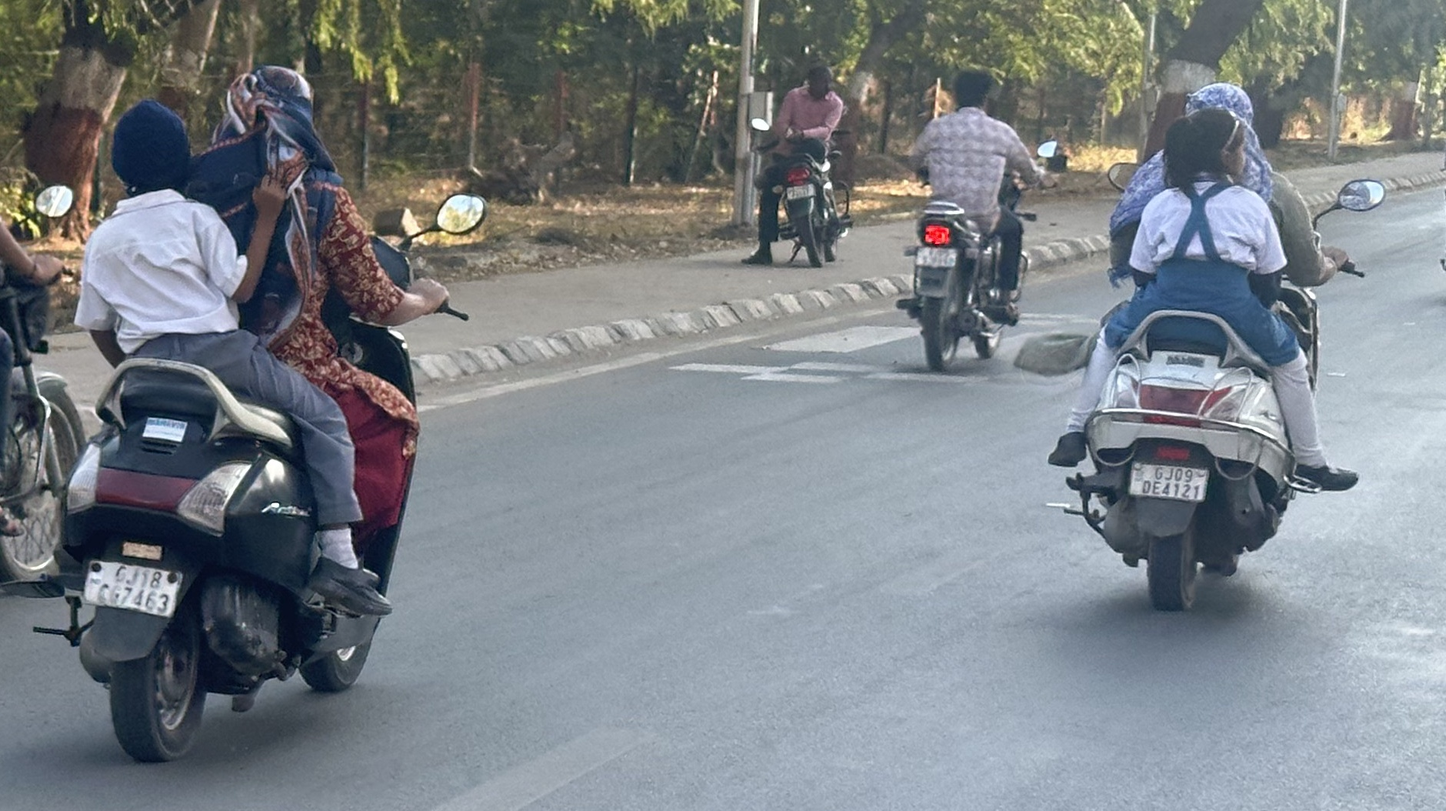BikeWithRider: (31, 52, 500, 772), (1036, 72, 1394, 622), (885, 55, 1067, 380), (735, 51, 865, 271)
NoHelmet: (214, 58, 328, 160), (103, 92, 200, 202), (1156, 108, 1253, 192), (1172, 78, 1264, 159), (943, 64, 1001, 120), (798, 58, 839, 102)
